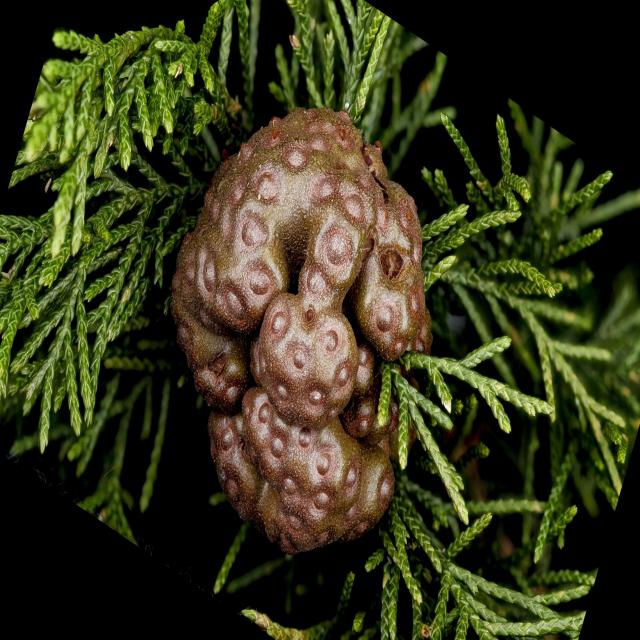Gymnosporangium_Rusts: (170, 104, 433, 556)
